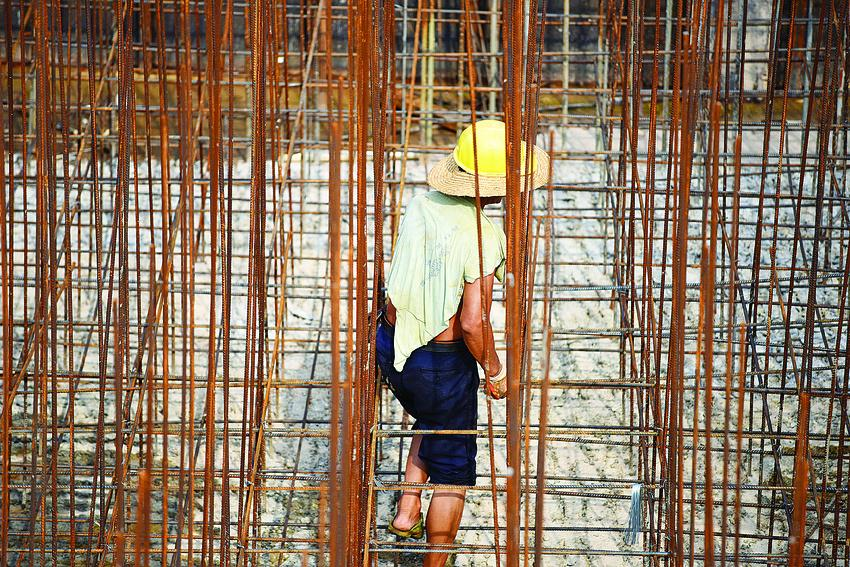helmet: (452, 123, 540, 180)
